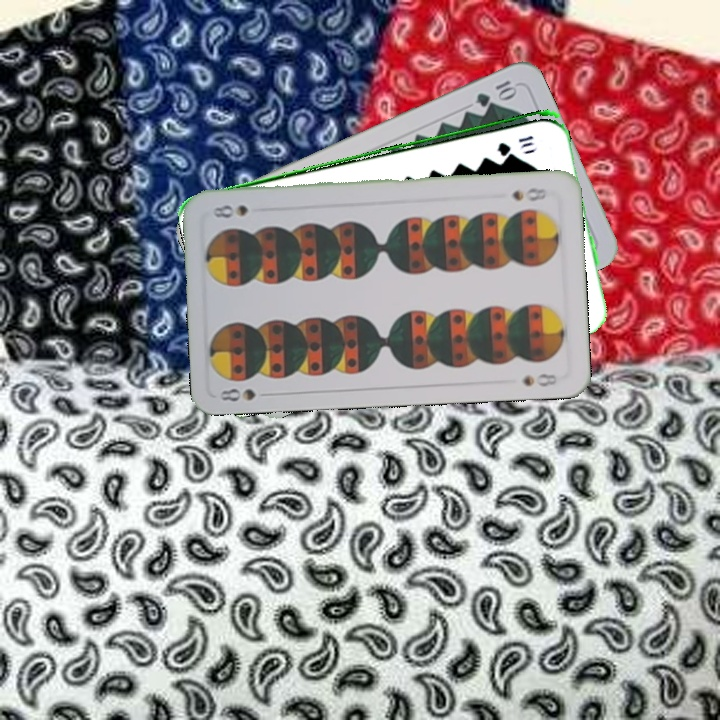G10: (471, 76, 520, 110), (493, 131, 536, 155)
S8: (217, 384, 275, 404), (508, 184, 551, 204)
